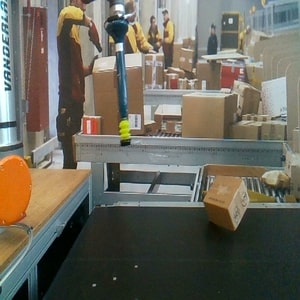box: (202, 175, 251, 232)
